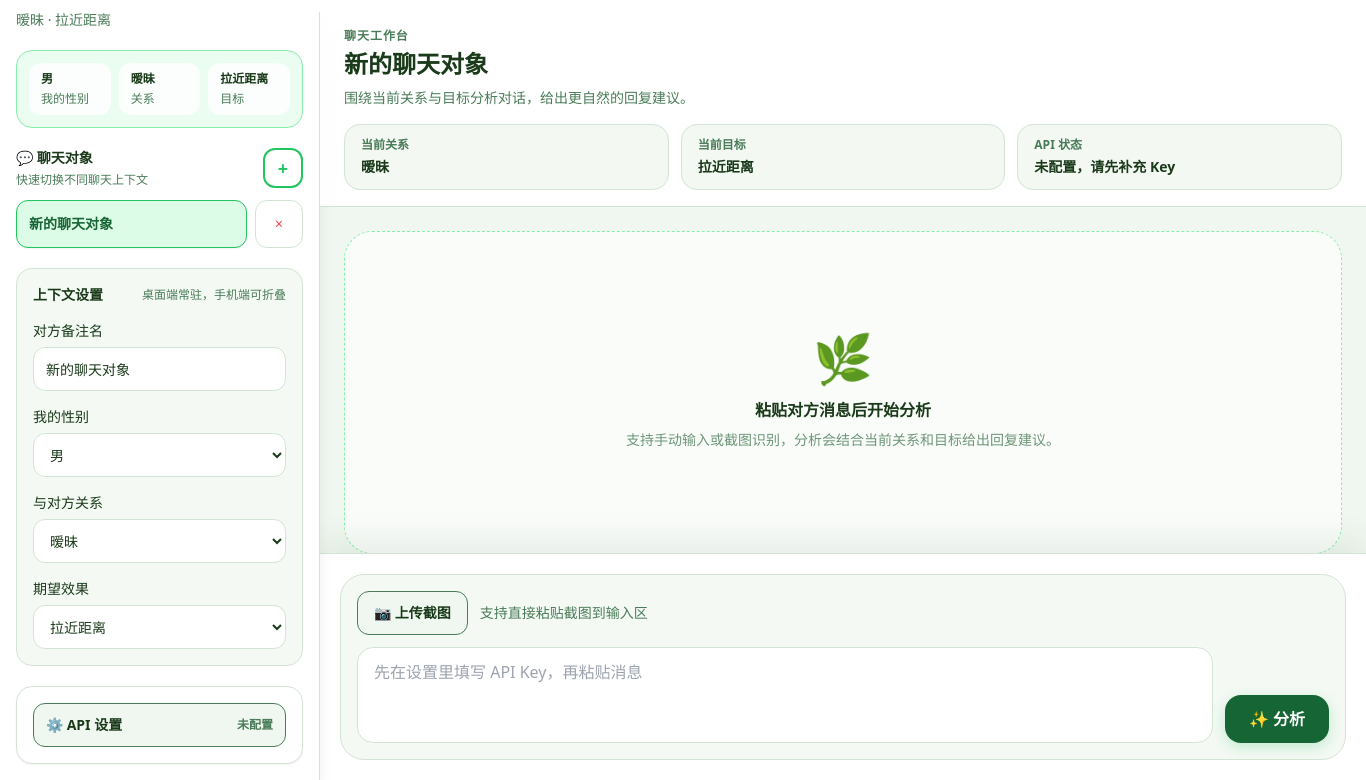
Test: Home app integration › posts analyze requests through the streaming API route
(page scrolled)
Click the button "⚙️ API 设置 未配置" at (160, 725), box [33,703,286,747]
(page scrolled)
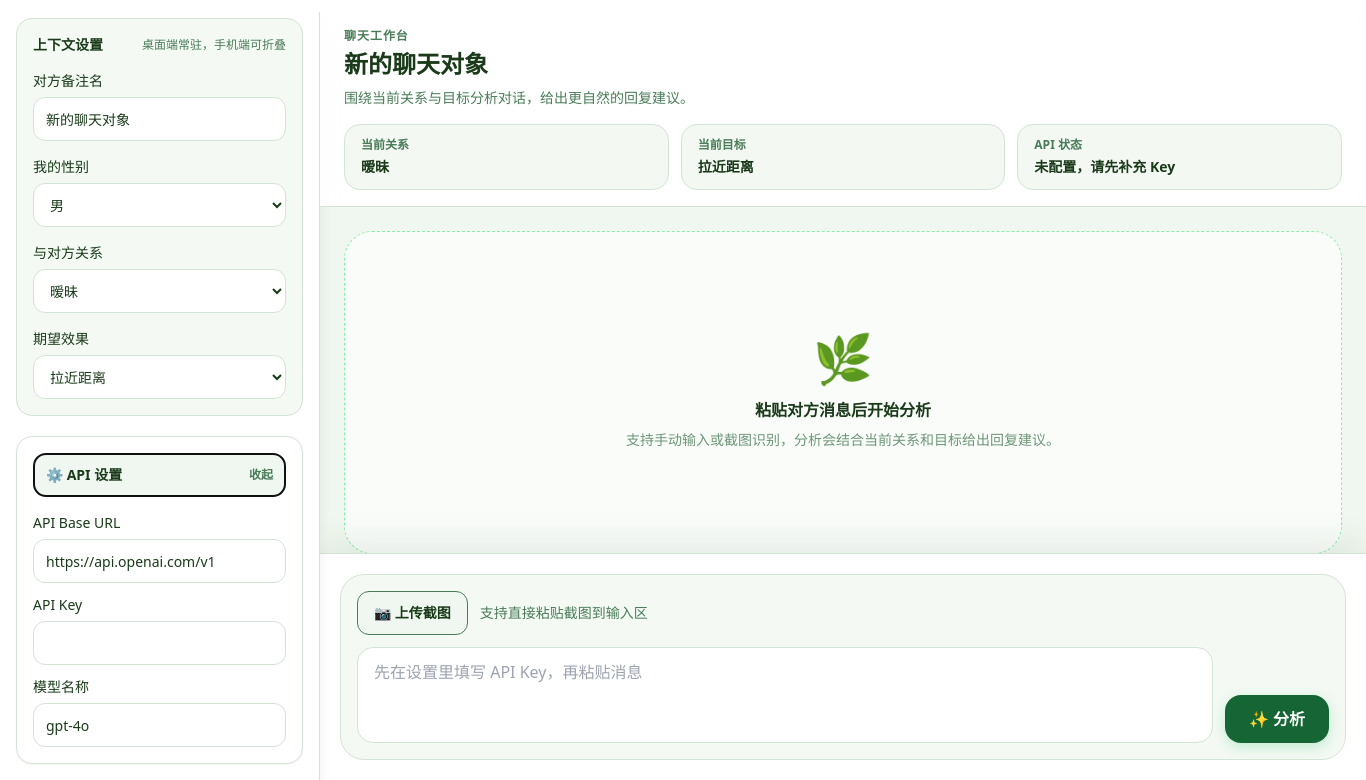
Type "sk-test" into the password field labelled "API Key" at (160, 643), box [33,621,286,665]
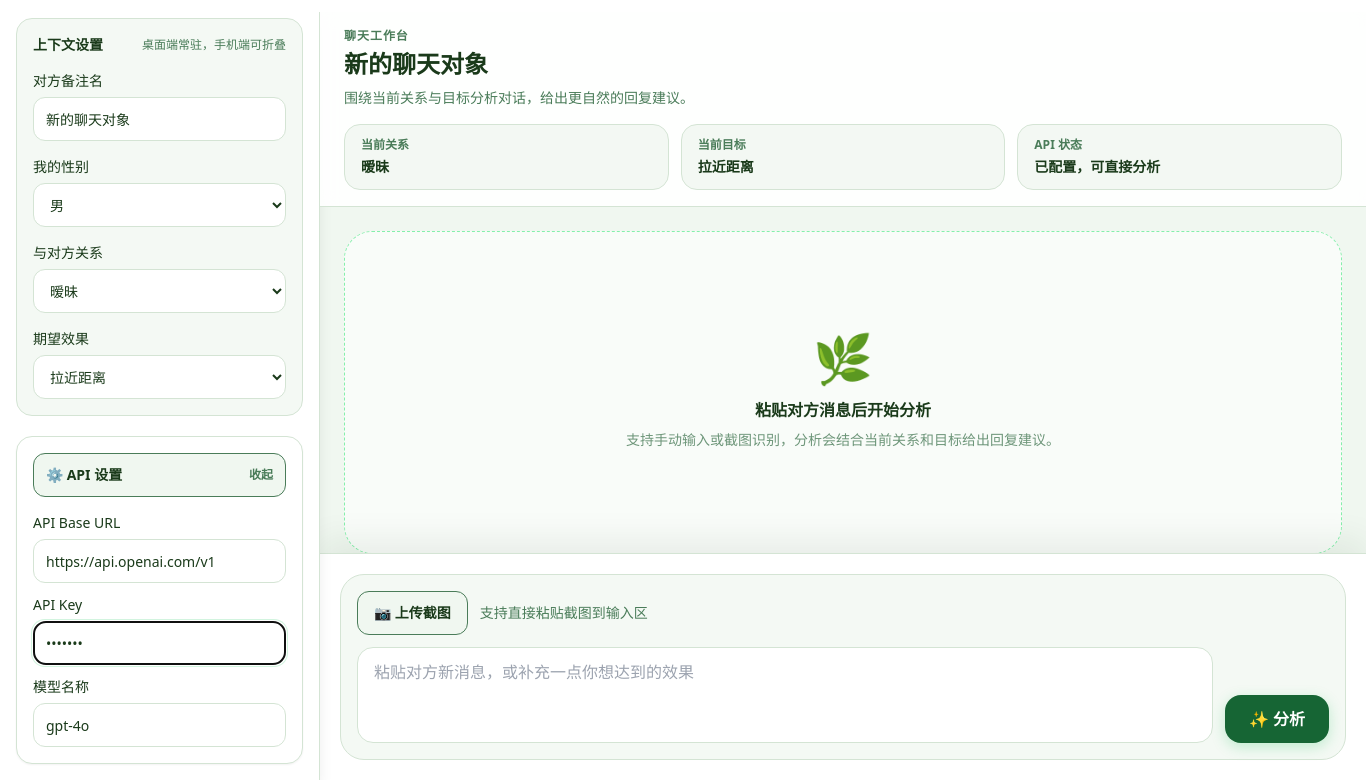
Type "周末有空吗" into the text box named "输入对方消息" at (785, 695), box [357,647,1213,743]
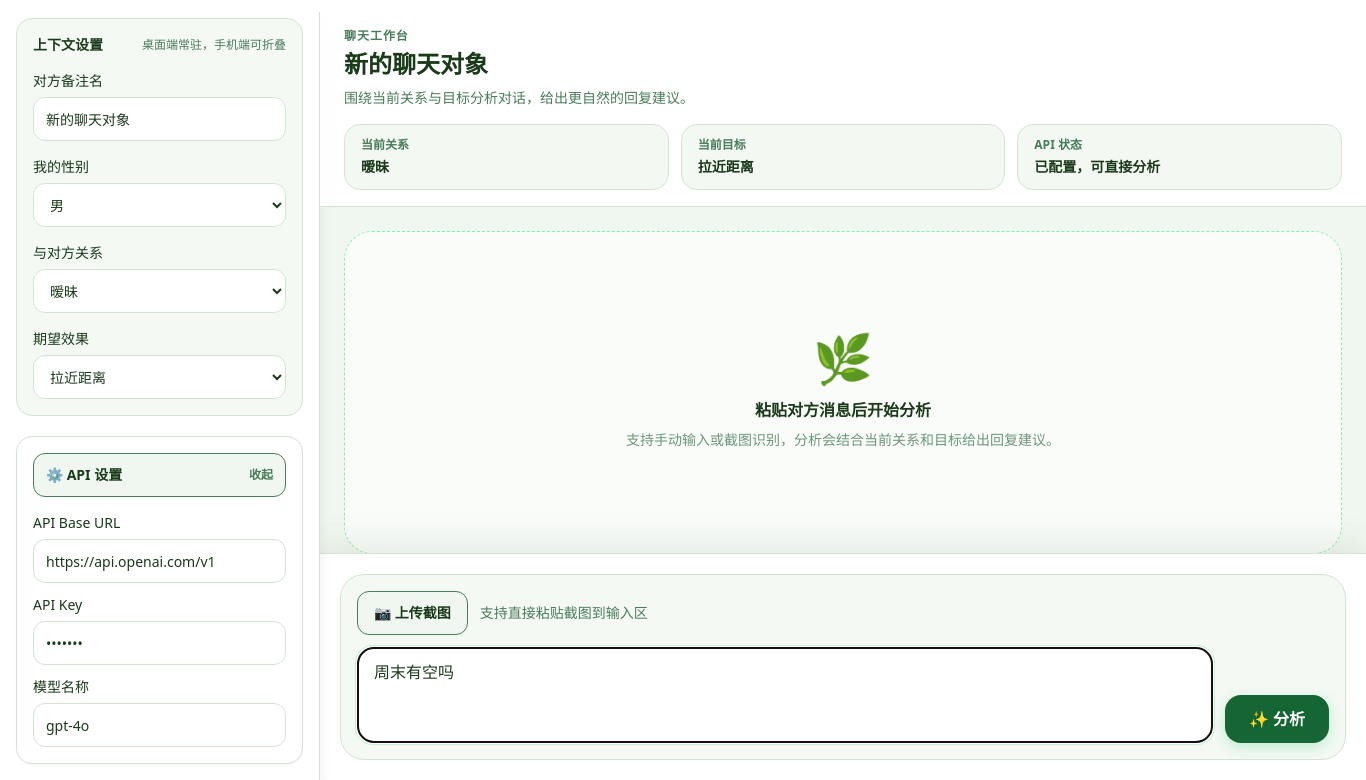
Click the button "✨ 分析" at (1277, 719), box [1225,695,1329,743]
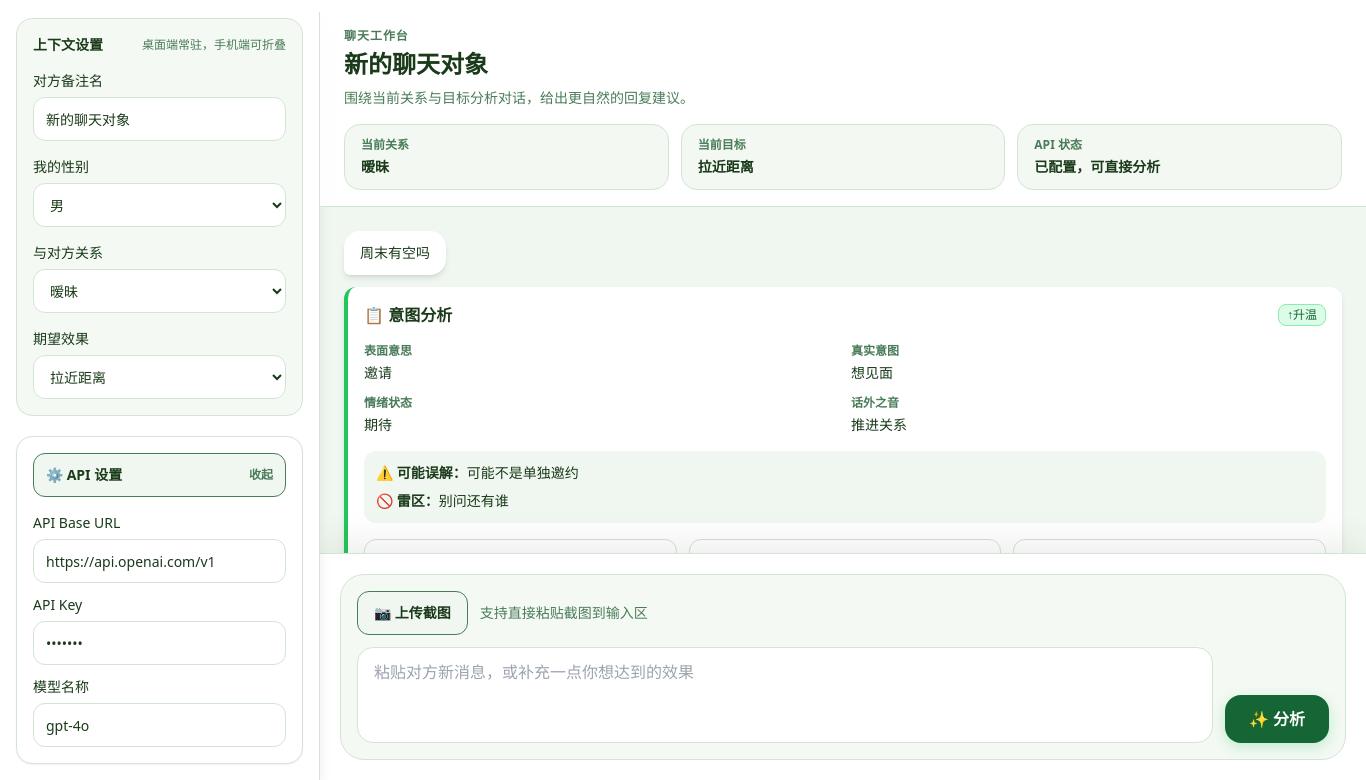
Now the text "想见面" is shown, box [851,363,893,382]
